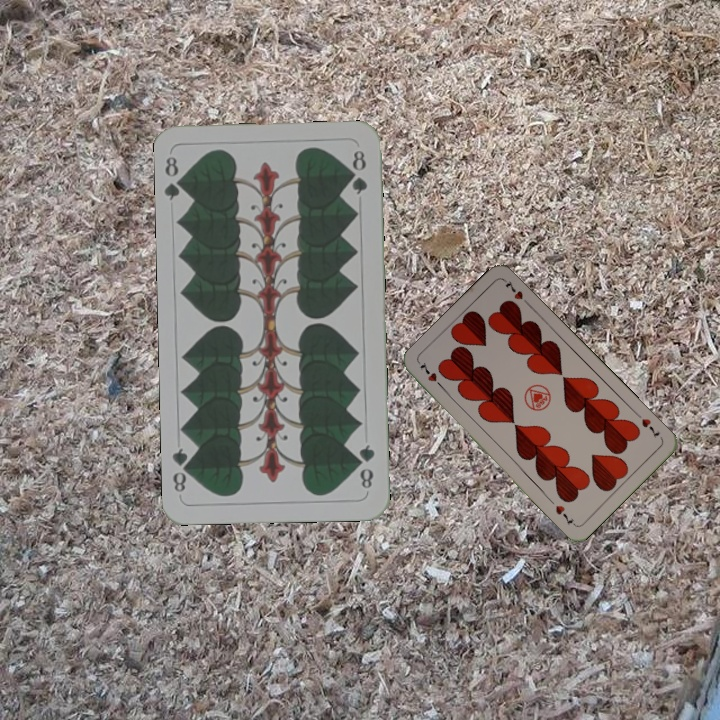G8: (161, 153, 188, 203), (354, 440, 378, 491)
H7: (416, 359, 447, 392), (632, 409, 662, 441)
